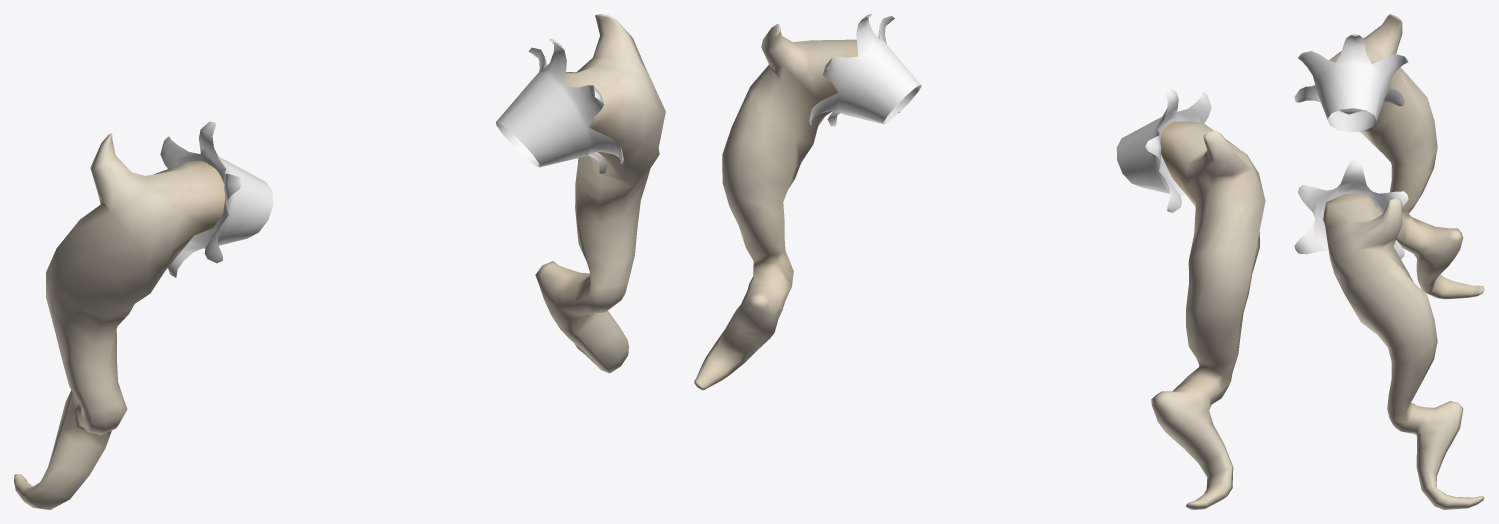
The model's file is importerSkin18_hair.fbx.
The picture shows the model from 3 angles, left to right: view 1: azimuth 30°, elevation 25°; view 2: azimuth 150°, elevation 25°; view 3: azimuth 270°, elevation 25°; orthographic projection. The views are drawn at different scales.
Parts seen in each view (by area): view 1: importerSkin18_hair_geo; view 2: importerSkin18_hair_geo; view 3: importerSkin18_hair_geo.
Part boxes in pixels (x1,y1,x2,y2): importerSkin18_hair_geo: (14,14,665,509); importerSkin18_hair_geo: (694,14,1265,509); importerSkin18_hair_geo: (1294,14,1484,509).
Bounding box in the file's own units: 3.52 × 2.25 × 1.27.
Materials: 1 (1 with a texture image).
